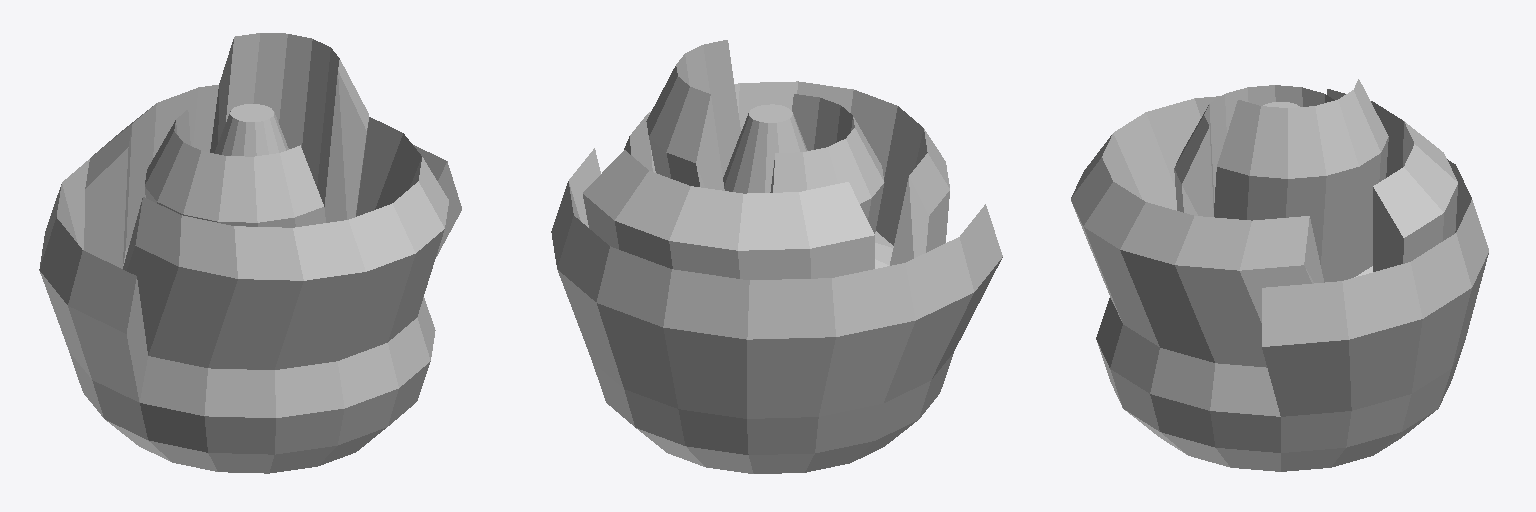
Rendered from lettuce.obj.
3 views of the same model, side by side, from view 1: azimuth 30°, elevation 25°; view 2: azimuth 150°, elevation 25°; view 3: azimuth 270°, elevation 25° (orthographic).
Parts seen in each view (by area): view 1: sphere1; view 2: sphere1; view 3: sphere1.
Boxes of the visible parts, x1=… form: sphere1: x1=39, y1=33, x2=461, y2=473; sphere1: x1=551, y1=40, x2=1002, y2=473; sphere1: x1=1071, y1=79, x2=1488, y2=471.
Size of the model in its own units: 2.46 by 2.22 by 2.27.